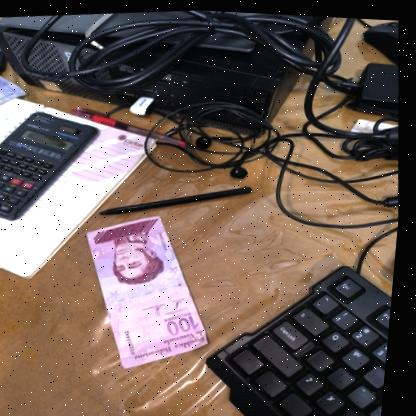one_hundred-front-vef: (78, 205, 227, 375)
